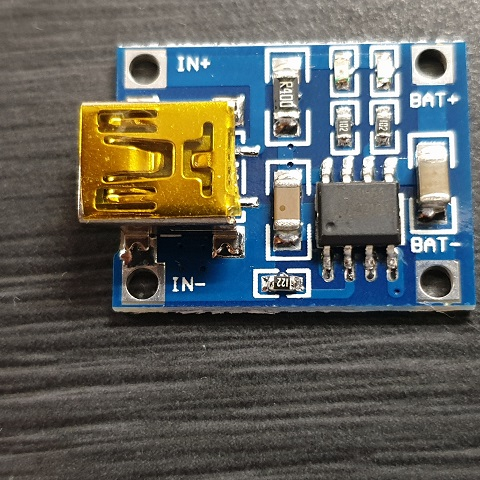batt+: (416, 44, 452, 82)
batt-: (413, 258, 456, 299)
charge: (332, 44, 361, 96)
done: (368, 42, 404, 94)
rprog: (254, 271, 308, 298)
usb: (76, 102, 226, 222)
